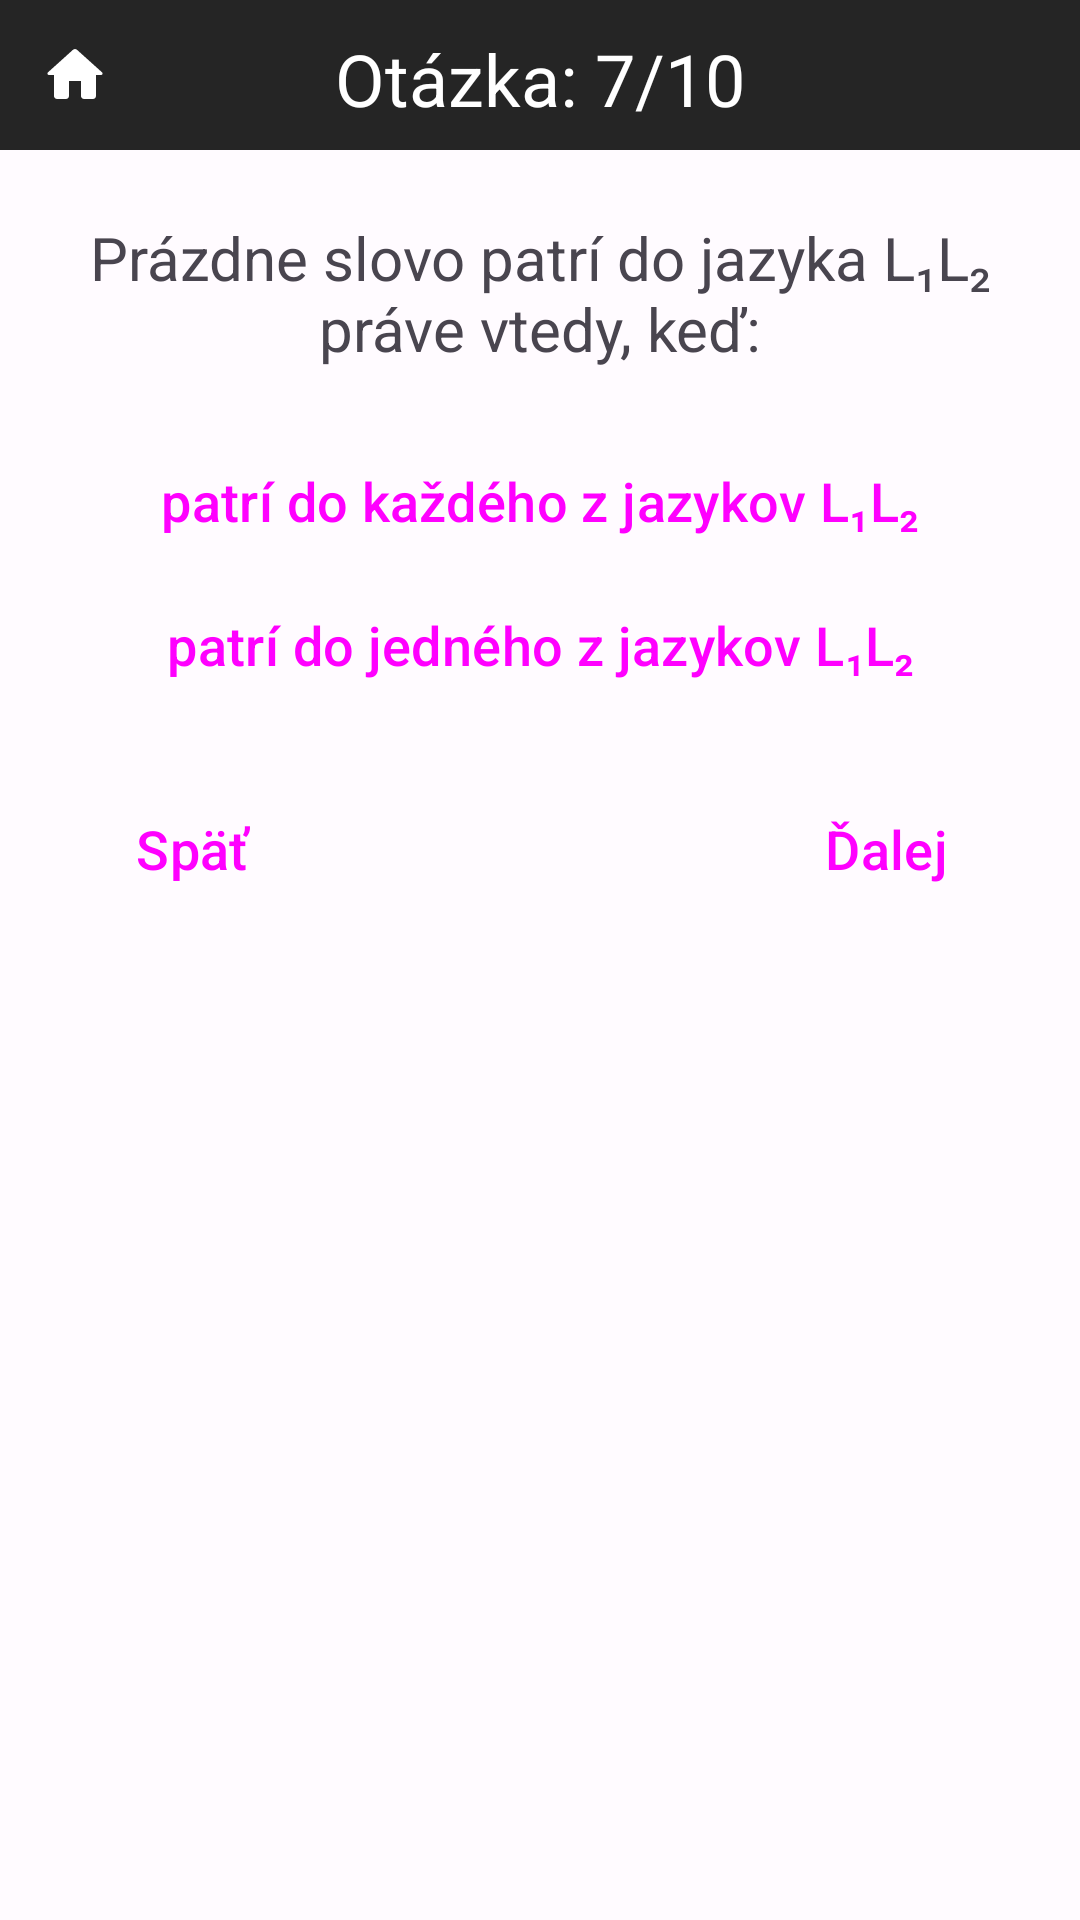

Icon bounding boxes for this 1080 x 1920 phone screenshot, format box(x1, y1, x2, y2):
domov: box(47, 49, 103, 99)
